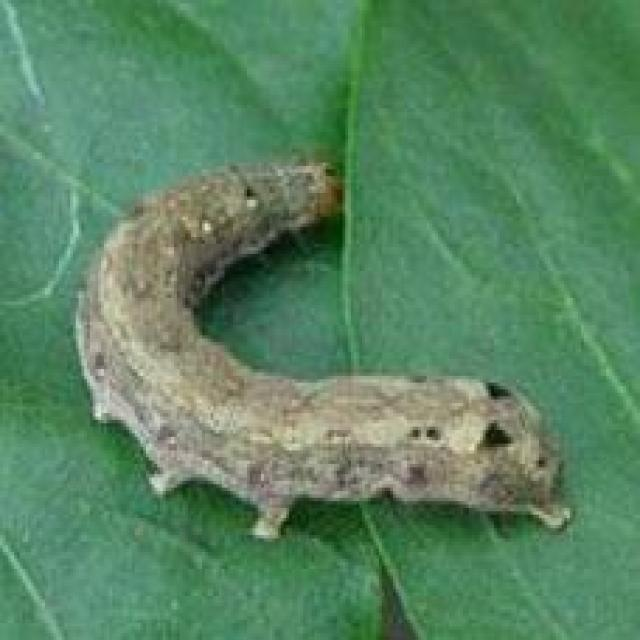BeetArmyWorm-Larva-: (69, 156, 573, 540)
